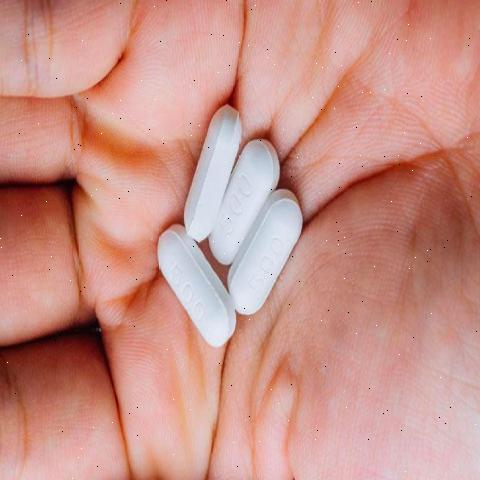Pill: (140, 225, 236, 354), (236, 184, 318, 332), (177, 101, 239, 238)
